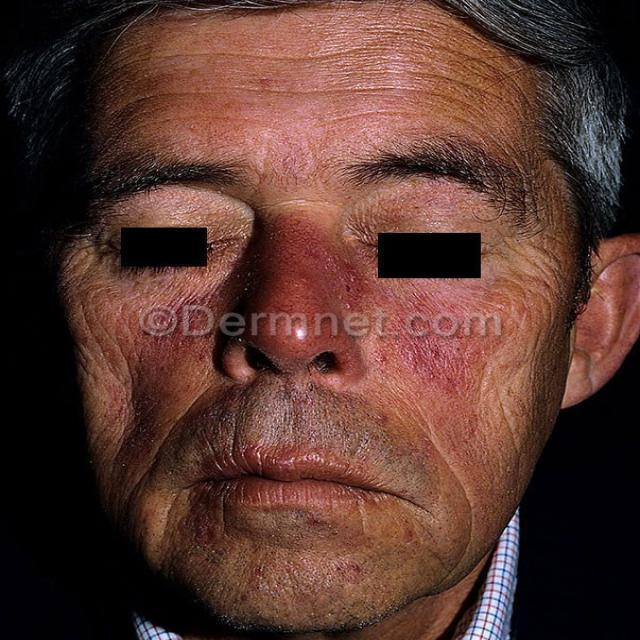skinredness: (322, 282, 563, 446)
